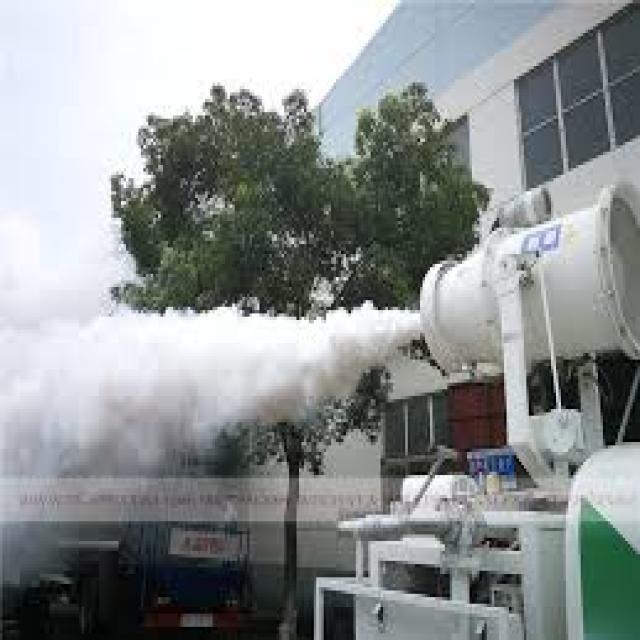Smoke: (0, 299, 422, 488)
